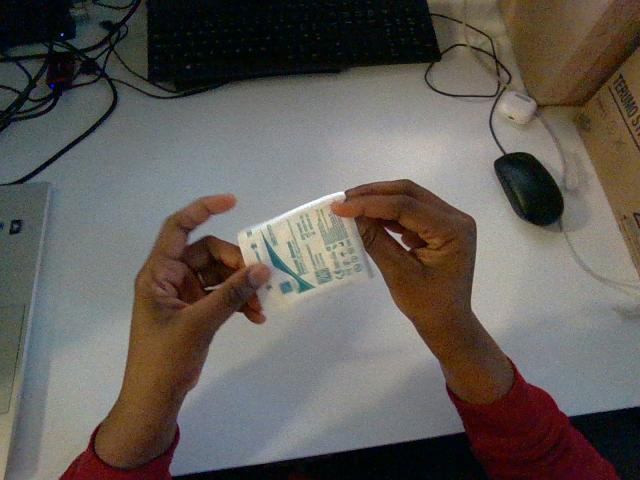gauze: (238, 192, 372, 311)
